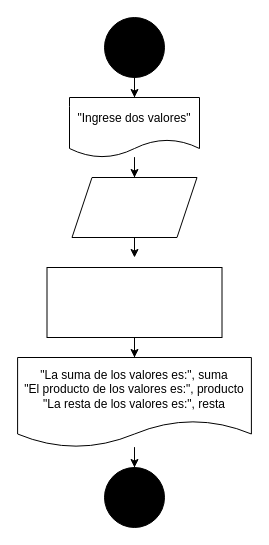
The diagram is 269 pixels wide and 545 high, and some of its shapes have lost their labels. The shapes that lost their labels are listed below. From the top down, each one's centre as x and y in pixels, then its label:
At (x=134, y=207): "valor1, valor2".
At (x=134, y=302): "suma<- valor1 + valor2 producto <- valor1 * valor2 resta<-valor1 - valor2".
